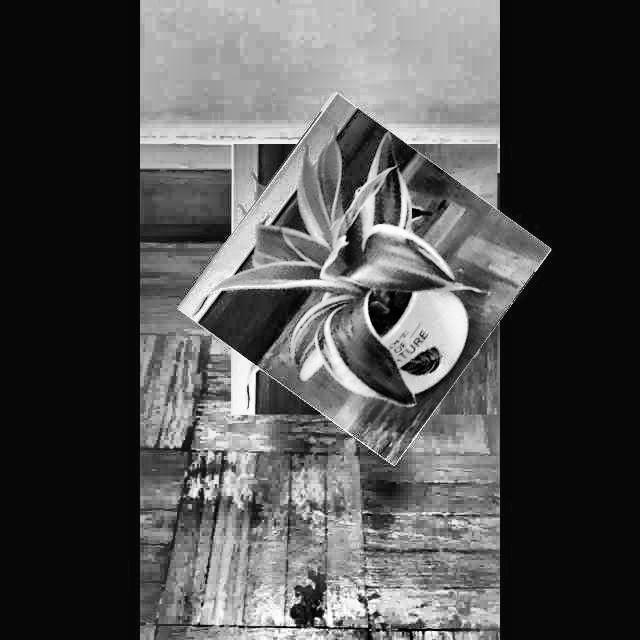plants: (204, 118, 525, 440)
